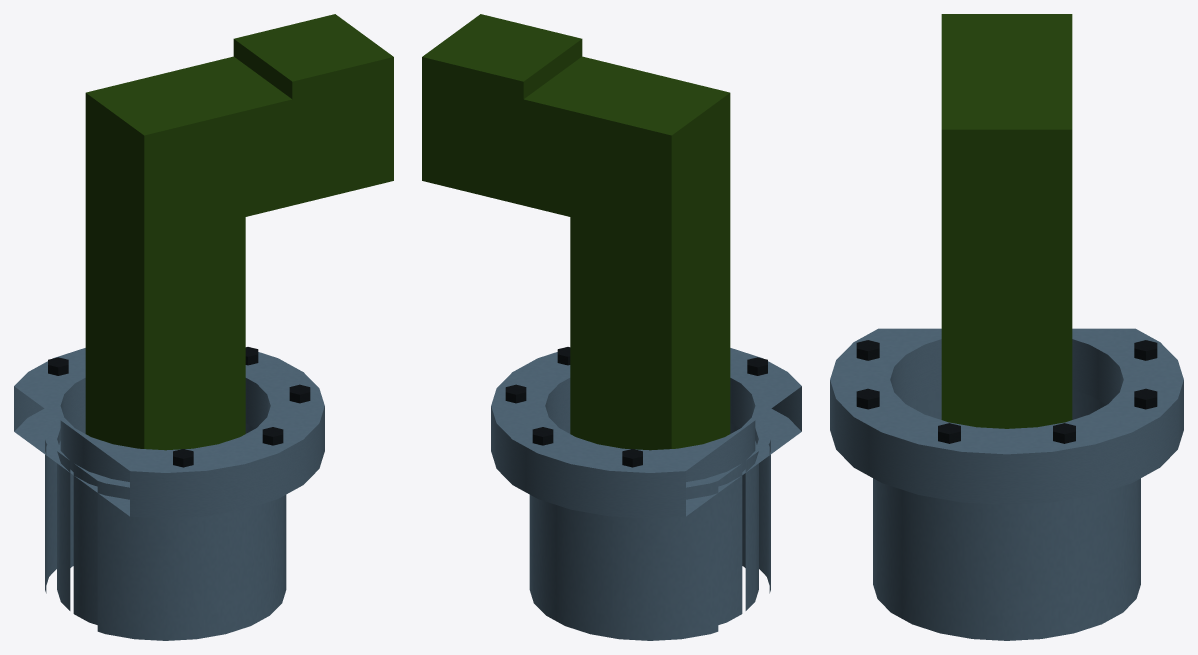
Rendered from cell_50.obj.
3 views of the same model, side by side, from view 1: azimuth 30°, elevation 25°; view 2: azimuth 150°, elevation 25°; view 3: azimuth 270°, elevation 25° (orthographic). The views are drawn at different scales.
Visible parts, largest first — view 1: cell_50; view 2: cell_50; view 3: cell_50.
Part boxes in pixels (x1,y1,x2,y2): cell_50: [14, 14, 393, 640]; cell_50: [422, 14, 801, 640]; cell_50: [830, 14, 1183, 640].
Bounding box in the file's own units: 0.605 × 1 × 0.5702.
